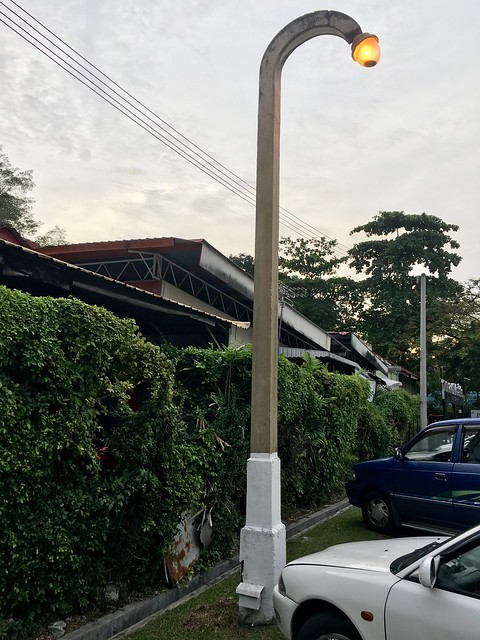light_pole: (231, 41, 320, 624)
